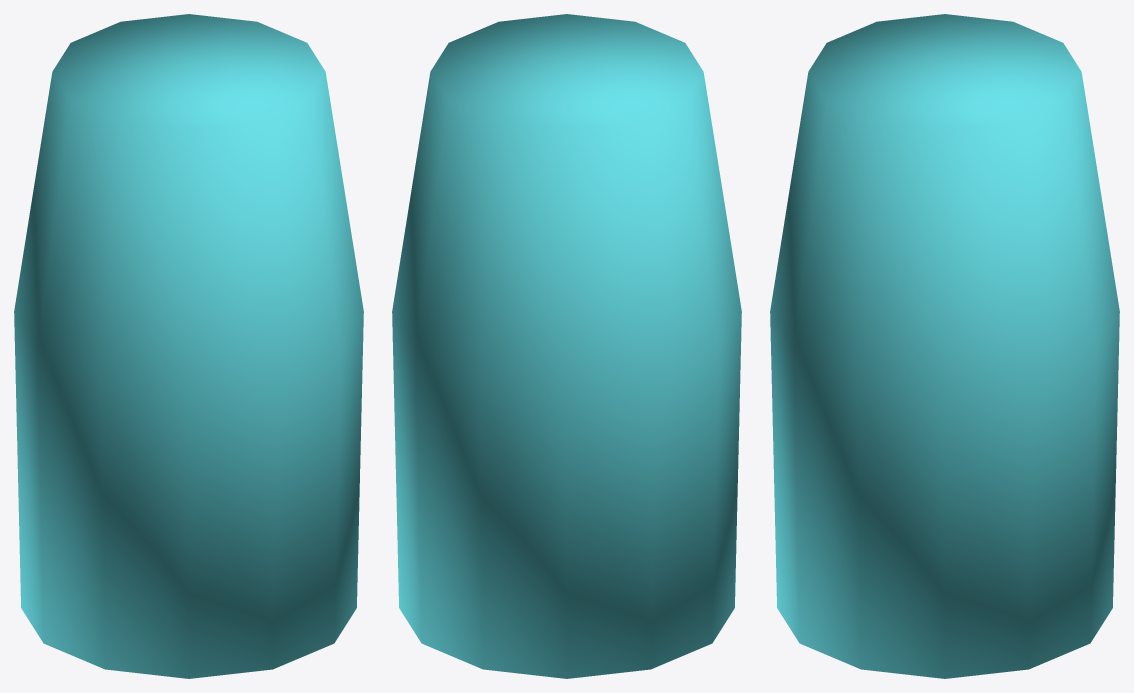
File: _interactions.glb
The picture shows the model from 3 angles, left to right: view 1: azimuth 30°, elevation 25°; view 2: azimuth 150°, elevation 25°; view 3: azimuth 270°, elevation 25°; orthographic projection.
Visible parts, largest first — view 1: _interact-lamp.000; view 2: _interact-lamp.000; view 3: _interact-lamp.000.
Part boxes in pixels (x1,y1,x2,y2): _interact-lamp.000: [14, 14, 363, 678]; _interact-lamp.000: [392, 14, 741, 678]; _interact-lamp.000: [770, 14, 1119, 678].
Bounding box in the file's own units: 0.2192 × 0.3724 × 0.2192.
